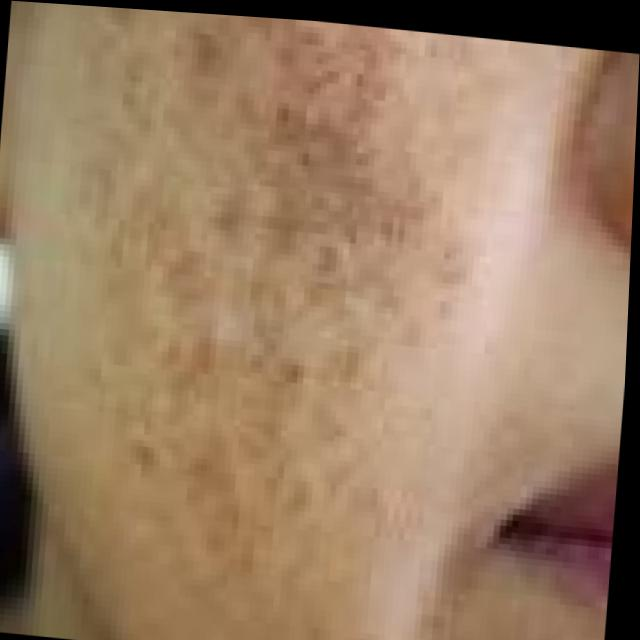Melasma: (148, 58, 428, 505)
